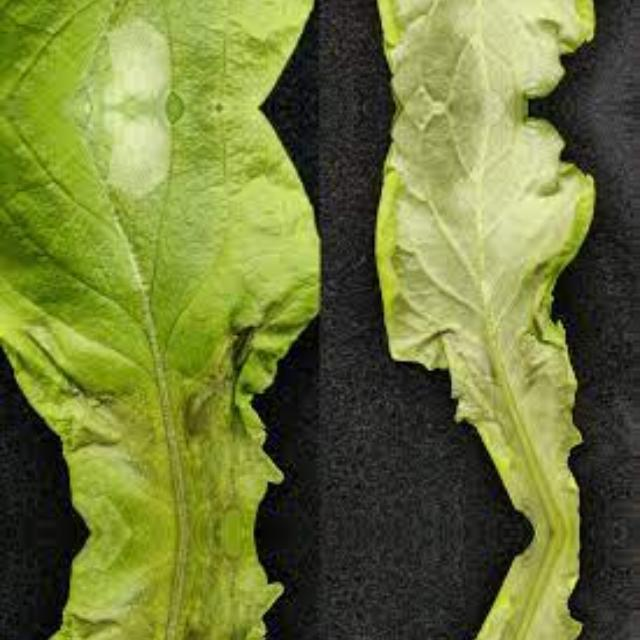Downy_mildew: (27, 122, 294, 522), (387, 122, 613, 510), (26, 543, 293, 640), (26, 0, 293, 92), (387, 0, 613, 91), (387, 556, 613, 640)
